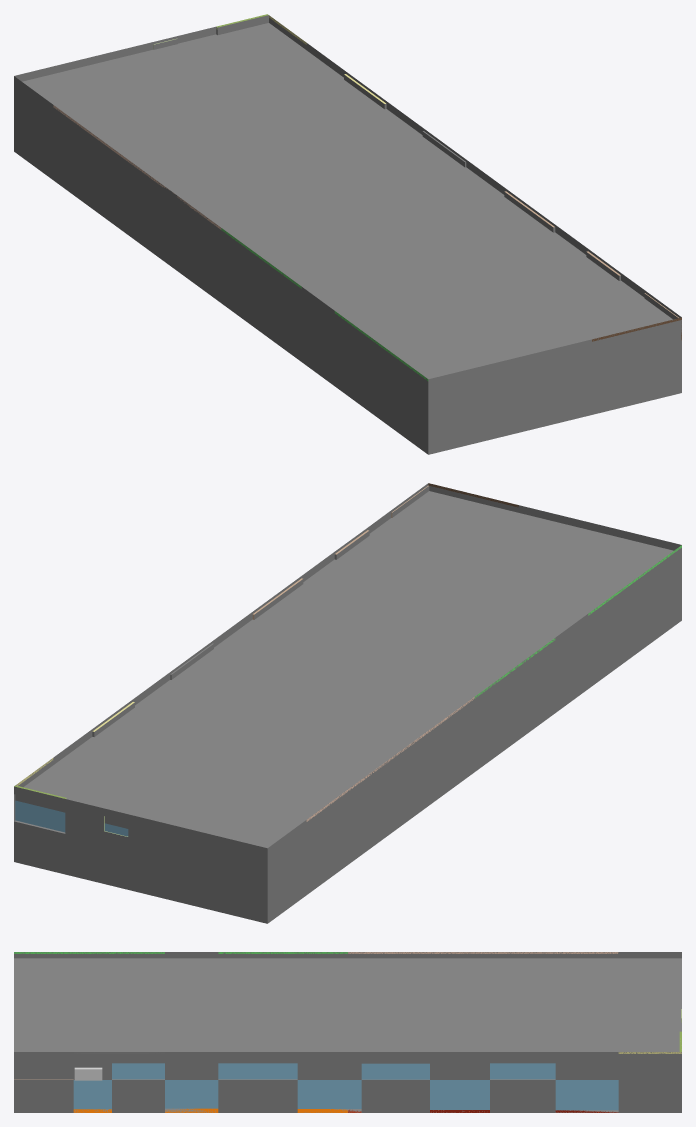
File: vismijn2_no_camera.fbx
3 renders of one model, top to bottom at view 1: azimuth 30°, elevation 25°; view 2: azimuth 150°, elevation 25°; view 3: azimuth 270°, elevation 25°, orthographic. The views are drawn at different scales.
Parts seen in each view (by area): view 1: Cube; view 2: Cube; view 3: Cube, Cube.001.
Boxes of the visible parts, box(x1,y1,x2,y2) form: Cube: box(14, 14, 681, 454); Cube: box(14, 483, 681, 923); Cube: box(14, 952, 681, 1112); Cube.001: box(74, 1067, 102, 1080).
Bounding box in the file's own units: 792 × 222 × 2205.
